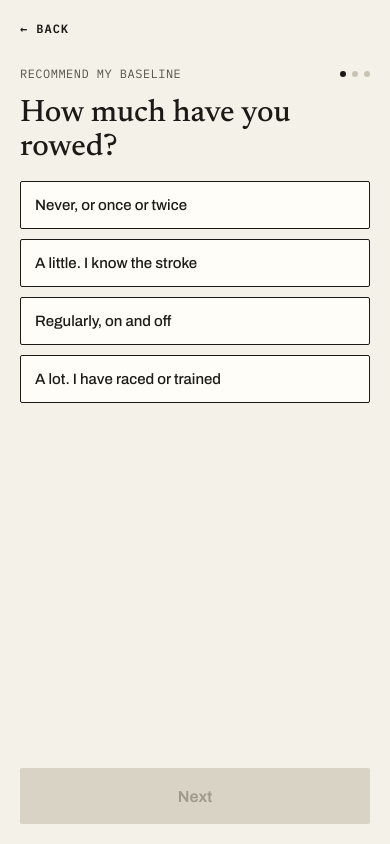
Test: Recommend (door 1) › auto-advance on pointer selection › the auto-advanced answer survives Back — same transient-STATE pin as the Next path
Click the radio button labelled "Regularly, on and off": (103, 321) top-left (20, 297), bottom-right (370, 345)
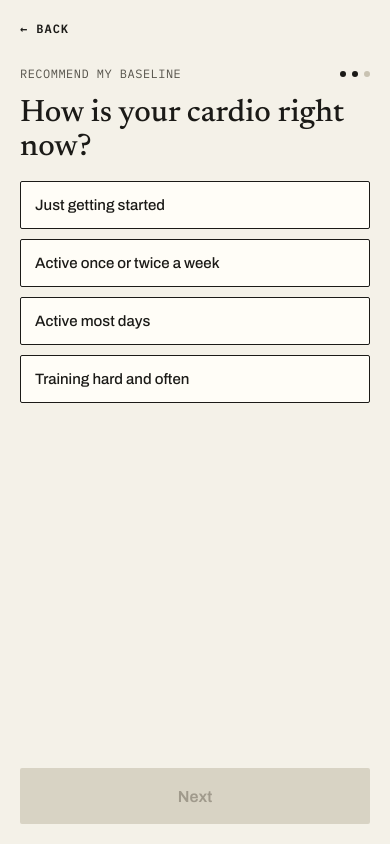
Click the button "← BACK": (44, 28) top-left (20, 6), bottom-right (69, 50)
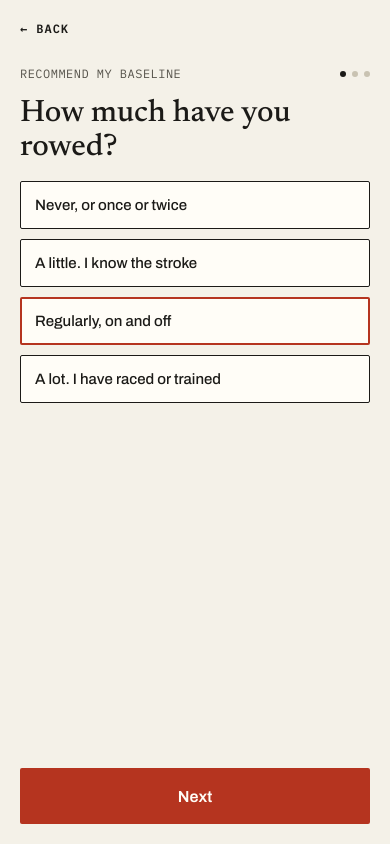
Expected: the button "Next" is enabled, top-left (20, 768), bottom-right (370, 824)
